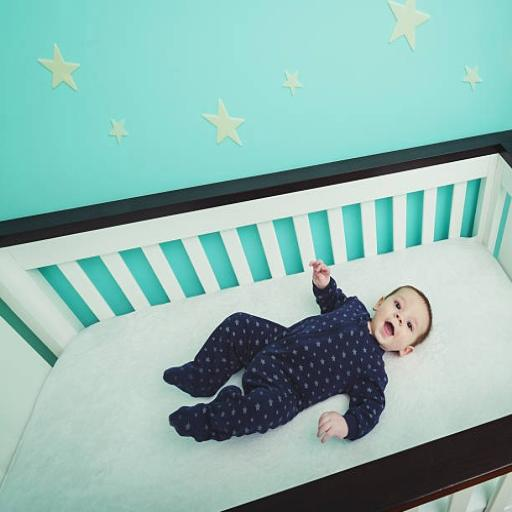baby: (164, 261, 432, 442)
crib: (0, 132, 511, 509)
